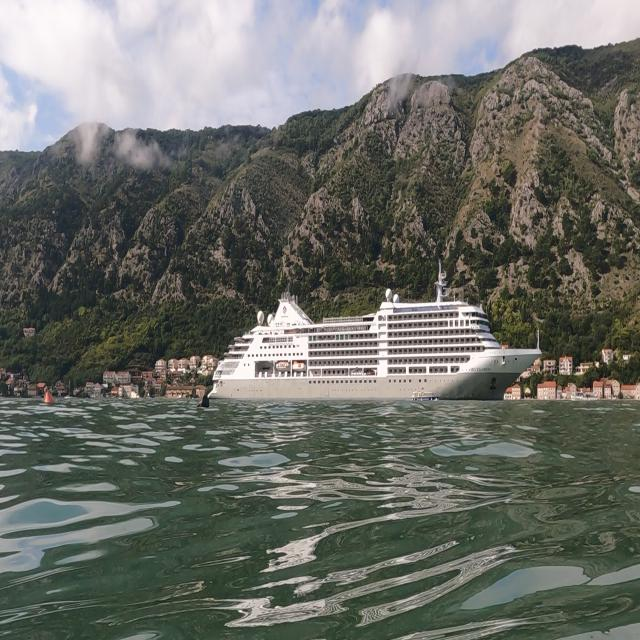boat: (202, 255, 544, 404)
buoy: (41, 382, 60, 414), (197, 389, 214, 414)
